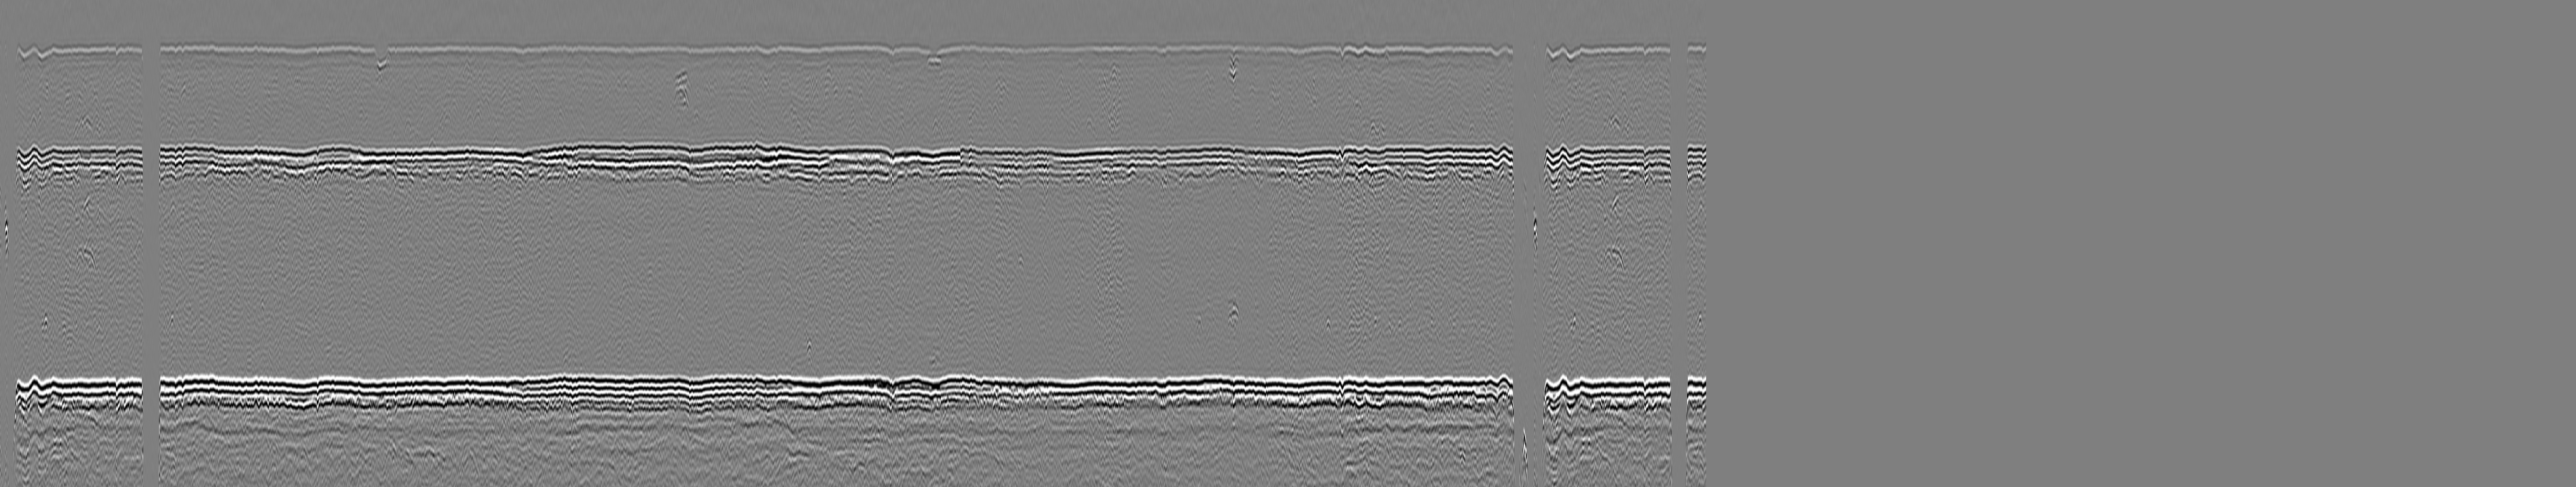fault: (1495, 123, 1579, 255), (1498, 15, 1569, 104), (122, 117, 179, 207), (1656, 127, 1700, 230), (1656, 20, 1704, 100), (126, 21, 174, 89), (360, 28, 402, 95)
